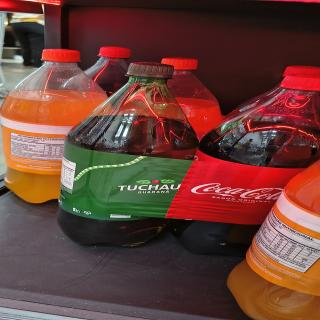beverage: (52, 60, 179, 252)
